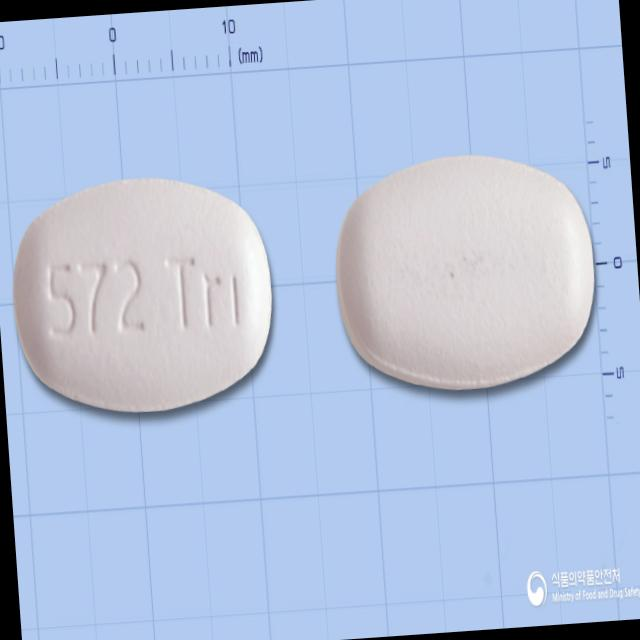Triumeq Tab: (6, 170, 280, 419)
